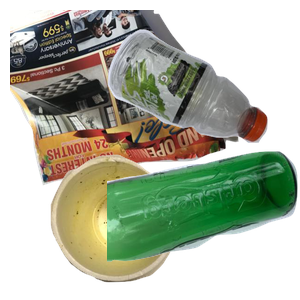glass: (107, 149, 300, 300)
paper: (10, 10, 241, 188)
plastic: (105, 27, 300, 162)
trash: (48, 152, 219, 300)
